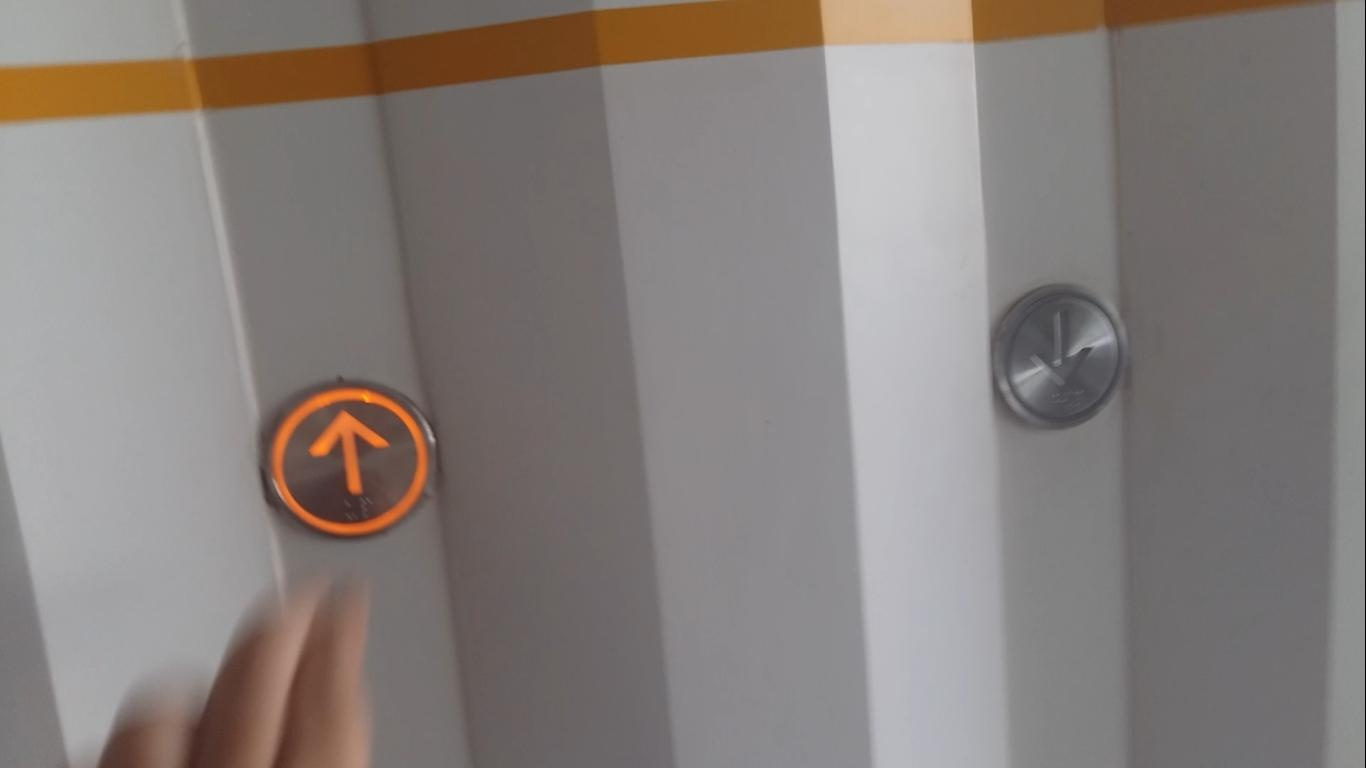down: (990, 282, 1129, 429)
up: (258, 382, 435, 541)
